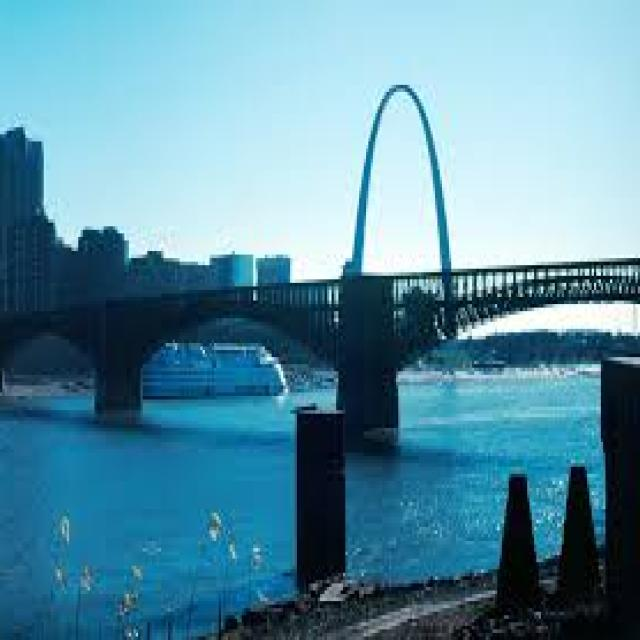Bridges: (0, 59, 639, 455)
